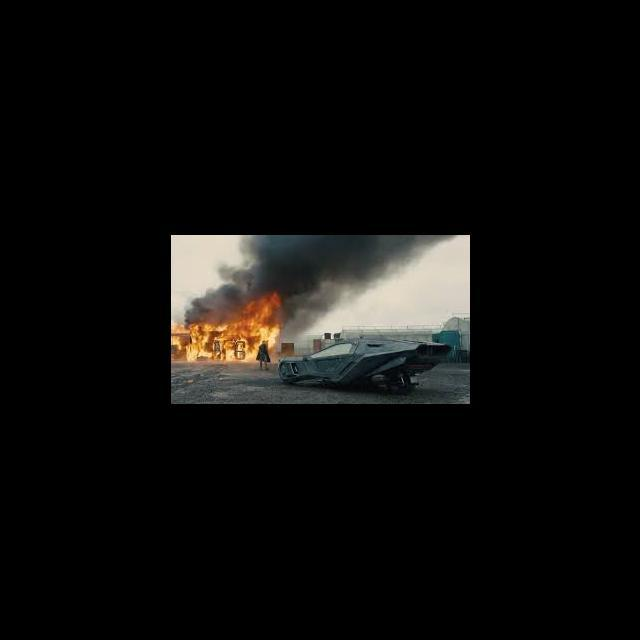Fire: (170, 291, 283, 364)
Smoke: (184, 236, 457, 340)
